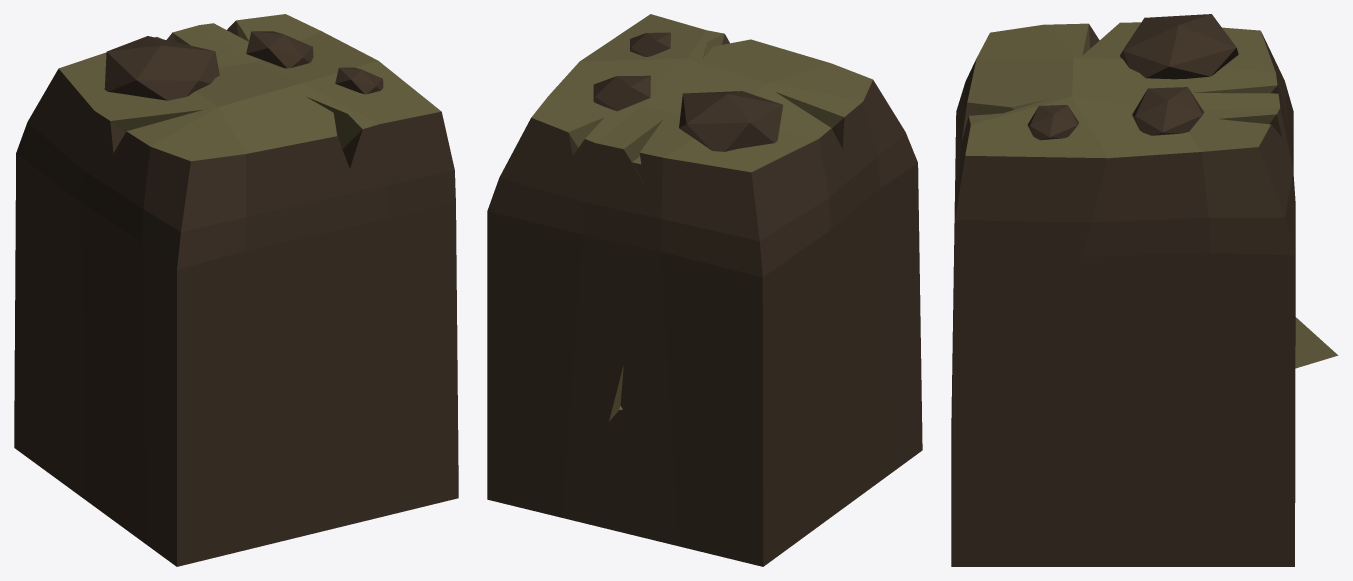
Rendered from TileWall_01.fbx.
3 views of the same model, side by side, from view 1: azimuth 30°, elevation 25°; view 2: azimuth 150°, elevation 25°; view 3: azimuth 270°, elevation 25° (orthographic). The views are drawn at different scales.
Visible parts, largest first — view 1: WallTile_01; view 2: WallTile_01; view 3: WallTile_01.
Part boxes in pixels (x1,y1,x2,y2): WallTile_01: [14, 14, 458, 566]; WallTile_01: [487, 14, 922, 566]; WallTile_01: [951, 14, 1338, 566].
Bounding box in the file's own units: 101 × 143 × 113.
